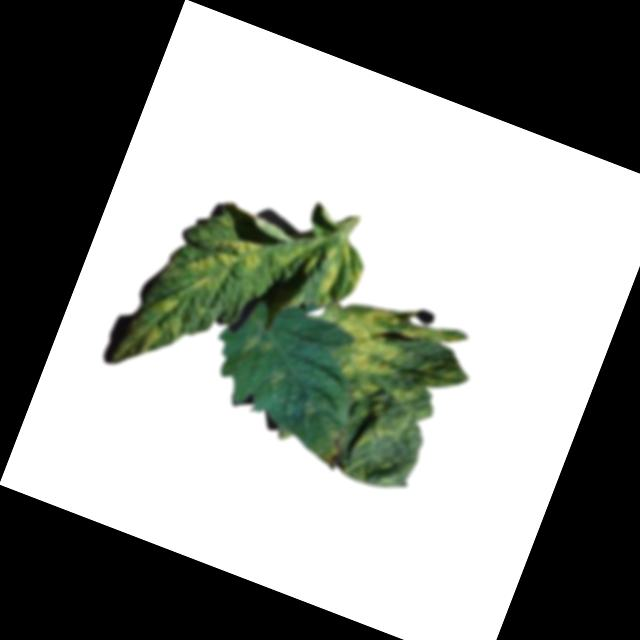Leaf_Mold: (299, 287, 415, 409), (184, 219, 267, 291), (311, 237, 371, 308), (138, 290, 190, 359), (237, 329, 274, 365)
